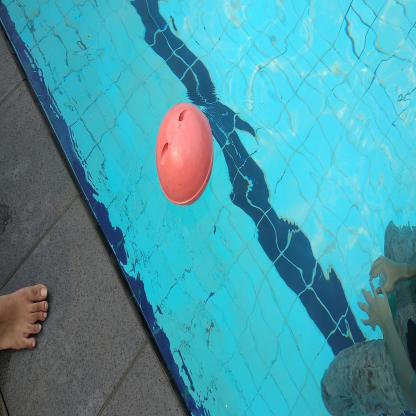red_buoy: (150, 92, 223, 220)
